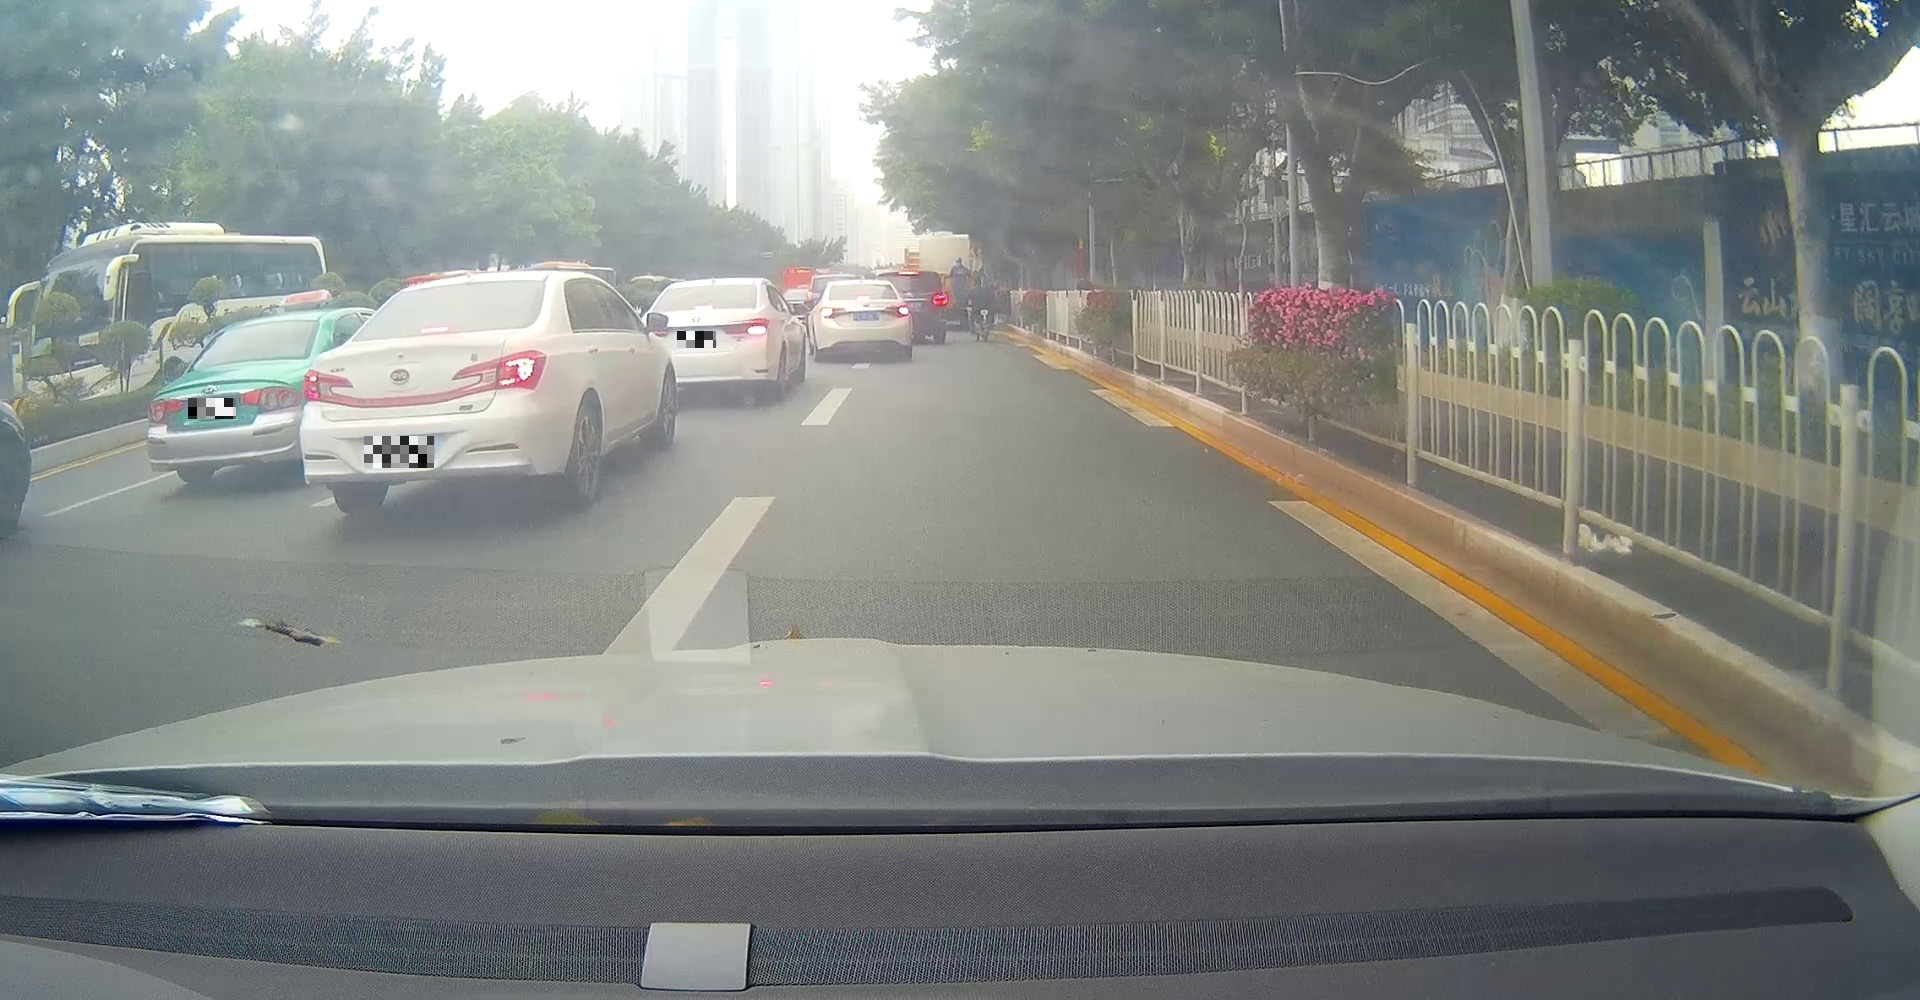L_light: (301, 369, 353, 406), (819, 307, 846, 319), (651, 330, 669, 338)
R_light: (450, 348, 547, 391), (723, 317, 770, 336), (885, 305, 910, 319)
T_light: (419, 327, 448, 335), (695, 305, 712, 310), (857, 296, 870, 301)
day-brake: (298, 272, 555, 516), (639, 277, 775, 402), (818, 279, 912, 360)
plate_1: (188, 398, 236, 419)
plate_2: (677, 331, 716, 348)
plate_3: (364, 437, 434, 468)
